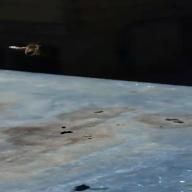Bee: (5, 38, 50, 59)
